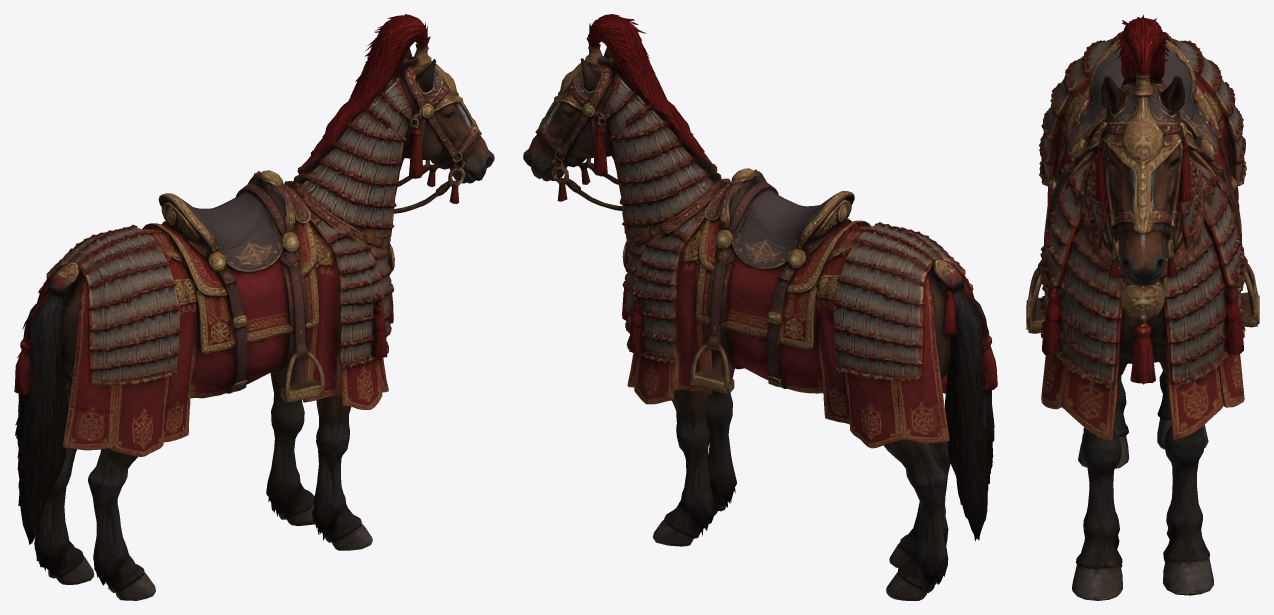
The model's file is warhorse-tripo.glb.
3 views of the same model, side by side, from view 1: azimuth 30°, elevation 25°; view 2: azimuth 150°, elevation 25°; view 3: azimuth 270°, elevation 25° (orthographic). The views are drawn at different scales.
Parts seen in each view (by area): view 1: tripo_node_3dfb4c54-5c0d-40be-9662-7d951b4ad1e6; view 2: tripo_node_3dfb4c54-5c0d-40be-9662-7d951b4ad1e6; view 3: tripo_node_3dfb4c54-5c0d-40be-9662-7d951b4ad1e6.
Part boxes in pixels (box(x1,y1,x2,y2)): tripo_node_3dfb4c54-5c0d-40be-9662-7d951b4ad1e6: box(14, 14, 494, 600); tripo_node_3dfb4c54-5c0d-40be-9662-7d951b4ad1e6: box(523, 14, 997, 600); tripo_node_3dfb4c54-5c0d-40be-9662-7d951b4ad1e6: box(1026, 14, 1259, 600).
Bounding box in the file's own units: 1 × 0.9996 × 0.3445.
Materials: 1 (1 with a texture image).
